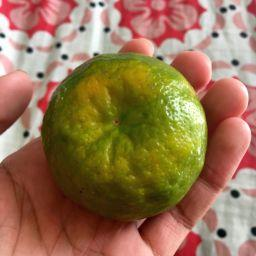Unripe: (42, 53, 207, 217)
